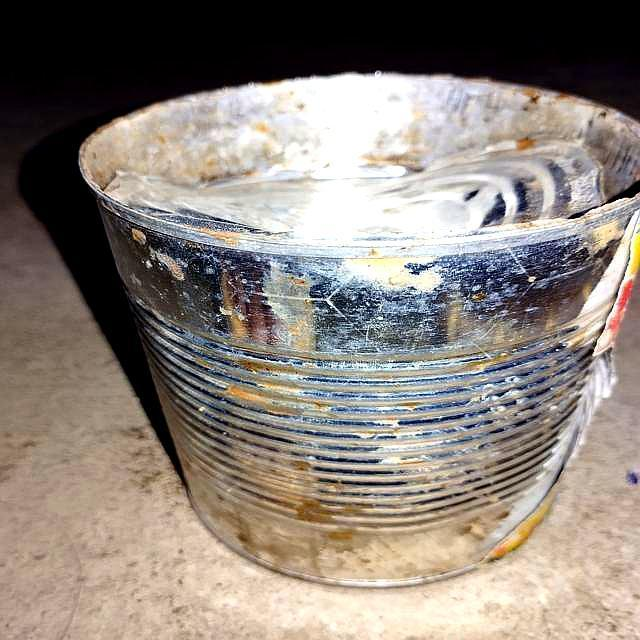Non-biodegradable: (77, 69, 639, 590)
